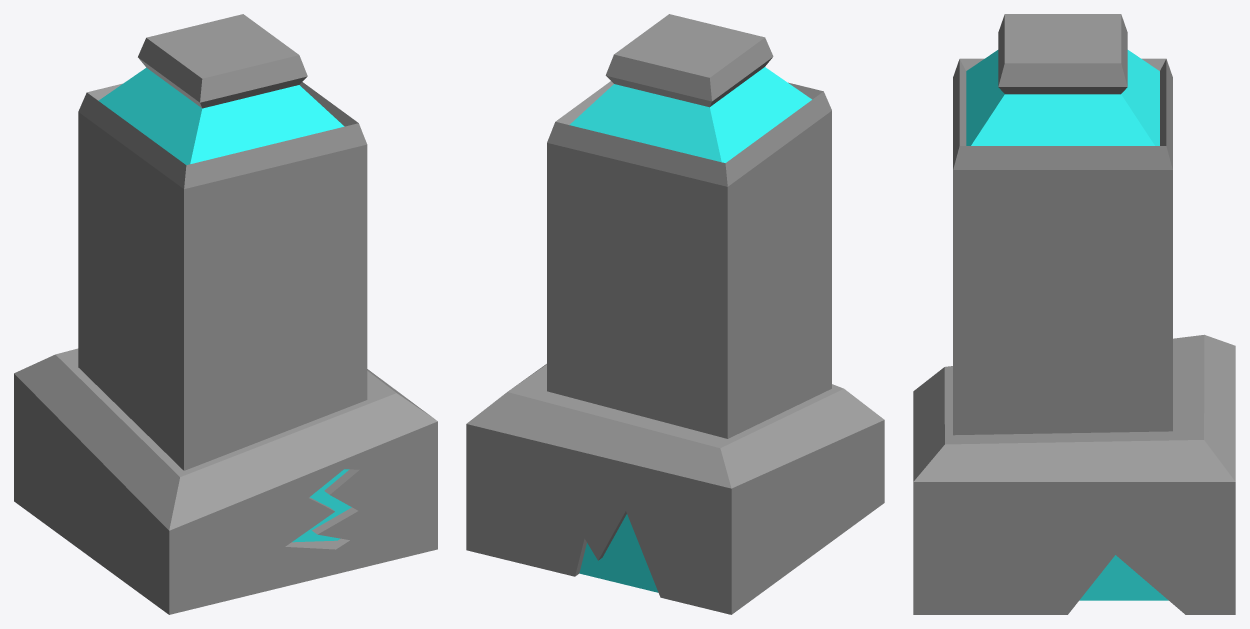
File: totem.fbx
The picture shows the model from 3 angles, left to right: view 1: azimuth 30°, elevation 25°; view 2: azimuth 150°, elevation 25°; view 3: azimuth 270°, elevation 25°; orthographic projection. The views are drawn at different scales.
Parts seen in each view (by area): view 1: Plane; view 2: Plane; view 3: Plane.
Part boxes in pixels (box(x1,y1,x2,y2)): Plane: box(14, 14, 437, 614); Plane: box(466, 14, 884, 614); Plane: box(913, 14, 1235, 614).
Size of the model in its own units: 105 by 181 by 105.
